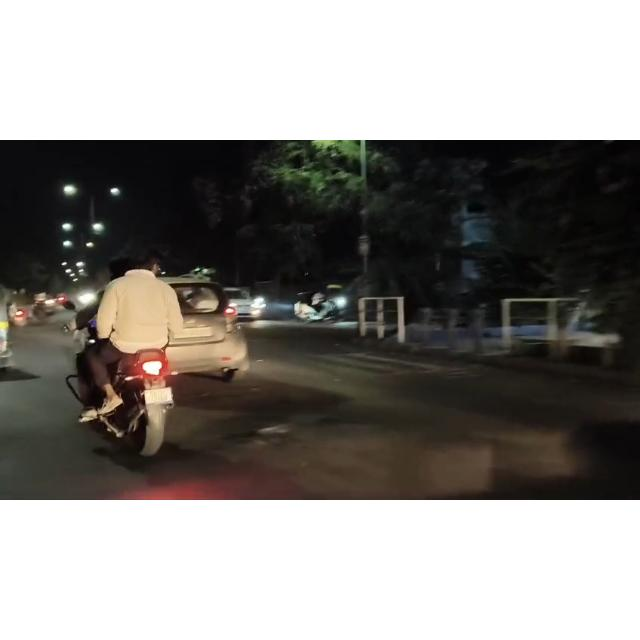car: (136, 274, 256, 378), (228, 283, 270, 325)
